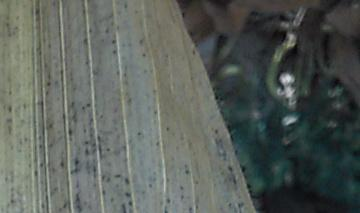tarspot: (74, 188, 84, 213), (68, 166, 81, 175), (224, 164, 235, 173), (67, 126, 73, 142), (123, 174, 131, 186), (58, 157, 66, 168), (123, 189, 132, 198), (137, 37, 145, 47), (82, 35, 89, 46), (119, 202, 126, 213), (83, 145, 90, 156), (135, 130, 144, 138), (183, 167, 191, 176), (33, 7, 41, 16), (46, 121, 54, 130), (190, 46, 197, 56), (127, 198, 134, 208), (163, 203, 170, 213), (104, 145, 112, 153), (140, 51, 148, 59), (46, 142, 54, 150), (122, 1, 129, 10), (103, 25, 110, 34), (112, 173, 122, 179), (32, 168, 39, 176), (212, 128, 219, 135), (85, 101, 92, 108), (111, 47, 117, 55), (165, 196, 171, 204), (187, 205, 193, 213), (98, 112, 104, 120), (154, 141, 160, 148), (110, 38, 117, 44), (164, 125, 170, 132), (45, 80, 51, 87), (80, 104, 86, 111), (38, 161, 44, 168), (74, 158, 79, 165), (83, 139, 88, 145)
